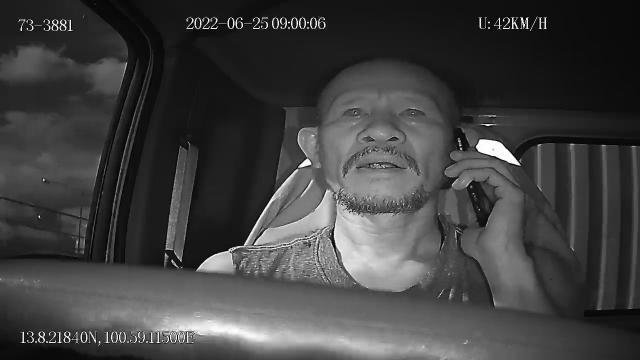PhoneUse: (451, 127, 491, 229)
SafeDriving: (392, 98, 432, 127), (336, 97, 374, 127)
